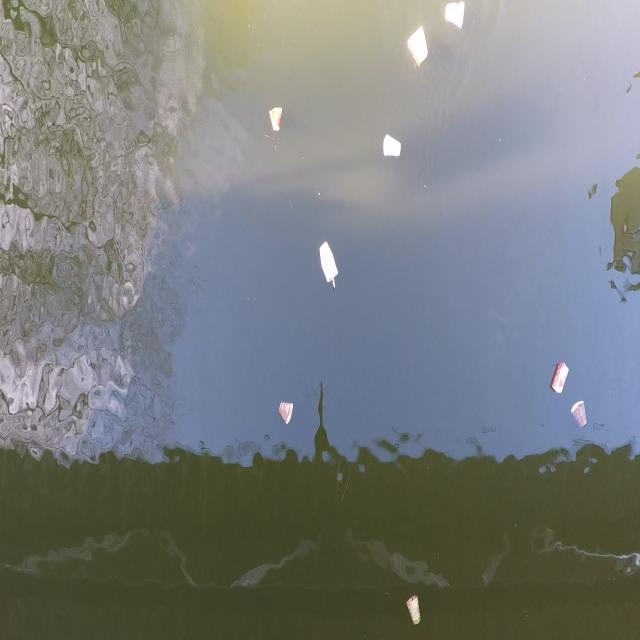Non plastique: (317, 238, 342, 297), (406, 30, 434, 69), (438, 0, 470, 33), (404, 592, 431, 631), (377, 133, 406, 167), (550, 360, 574, 399), (570, 398, 592, 435), (276, 393, 296, 430), (267, 102, 286, 137)
